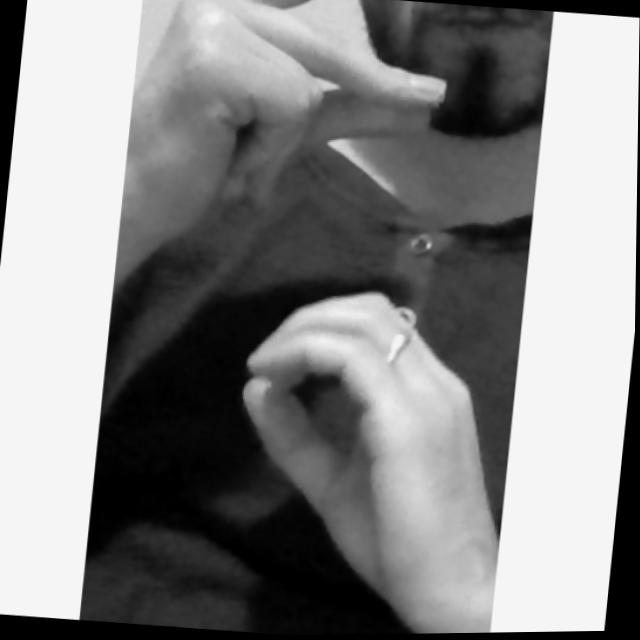O--: (79, 0, 552, 639)
